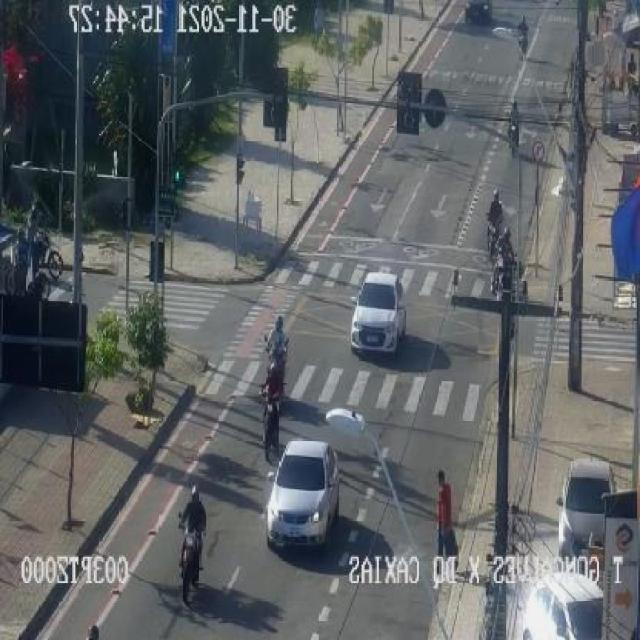Car: (252, 434, 349, 559), (345, 259, 412, 364), (459, 0, 495, 32)
Cycle: (173, 472, 214, 600), (23, 196, 75, 295), (252, 360, 290, 462), (482, 226, 526, 308), (260, 274, 294, 380), (478, 176, 512, 247), (504, 89, 534, 163), (508, 8, 541, 60)
